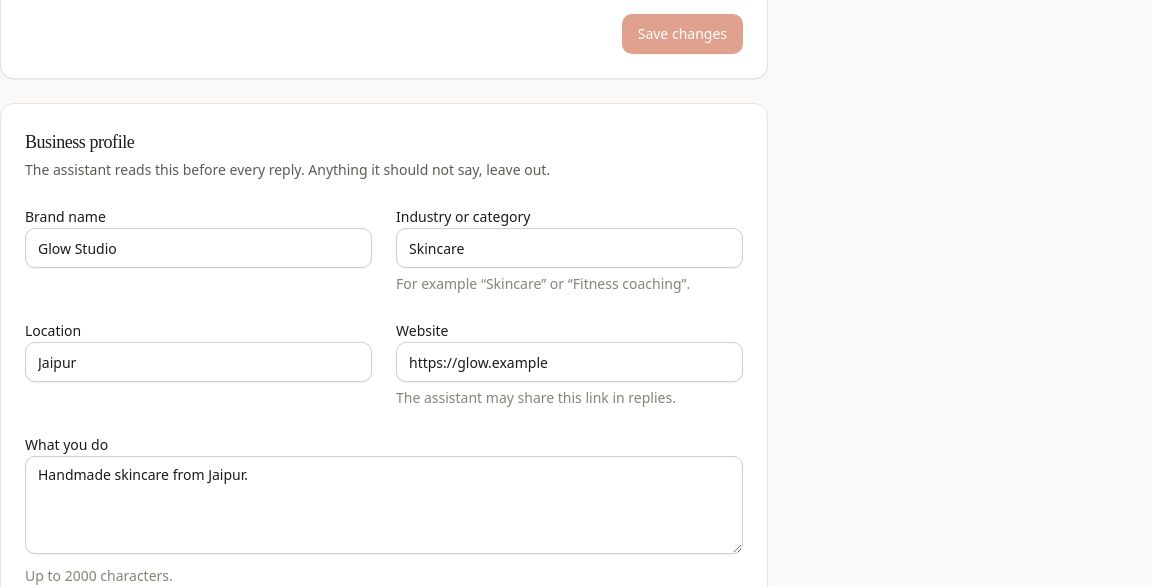
Scenario: business profile › saves the whole profile, since the server replaces it
(page scrolled)
Replace the text in the field labelled "Brand name" with "Glow Studio Jaipur" at point(198, 248), box [25, 228, 372, 268]
(page scrolled)
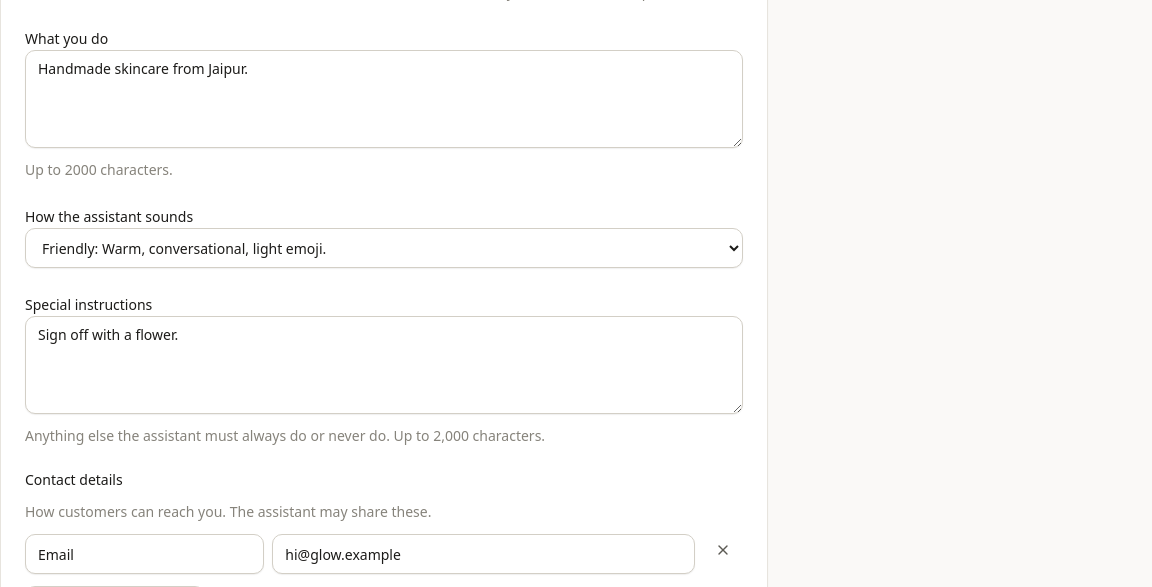
Select "Professional: Polite and clear, with a warm edge." in the dropdown labelled "How the assistant sounds" at point(384, 248), box [25, 228, 743, 268]
(page scrolled)
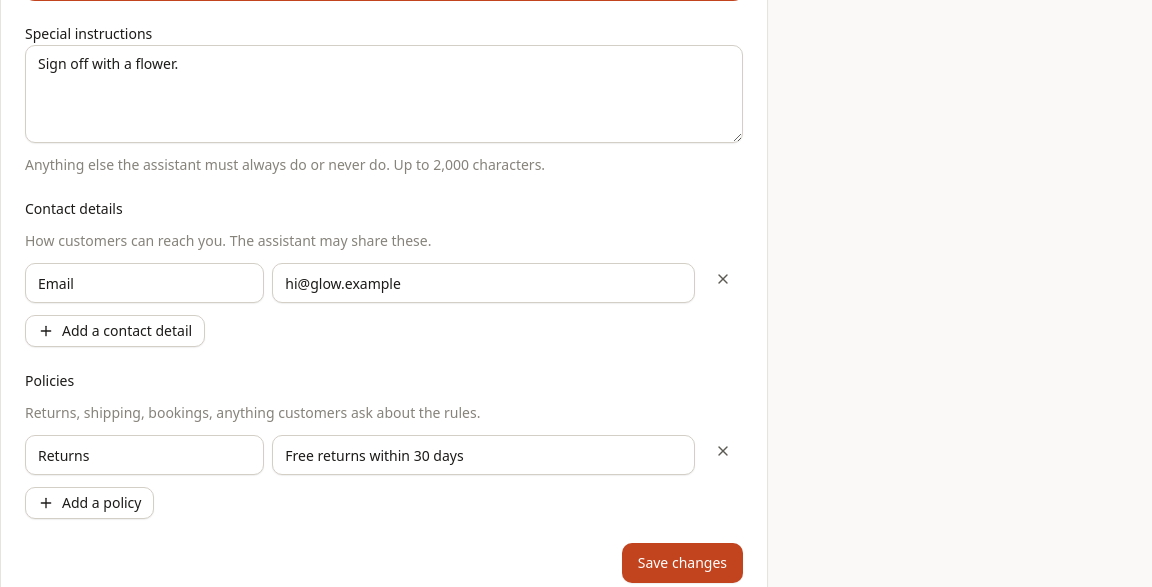
Click the button "Save changes" at point(682, 563), box [622, 543, 743, 583]
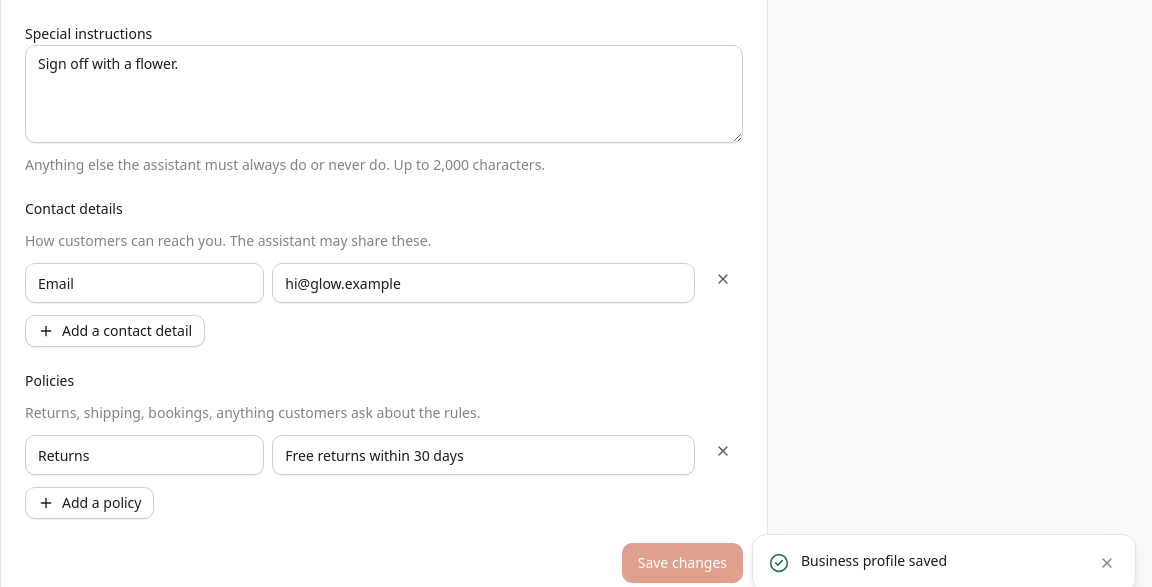
Now the text "Business profile saved" is shown, box [801, 551, 947, 570]
Now the button "Save changes" is disabled, box [622, 543, 743, 583]
